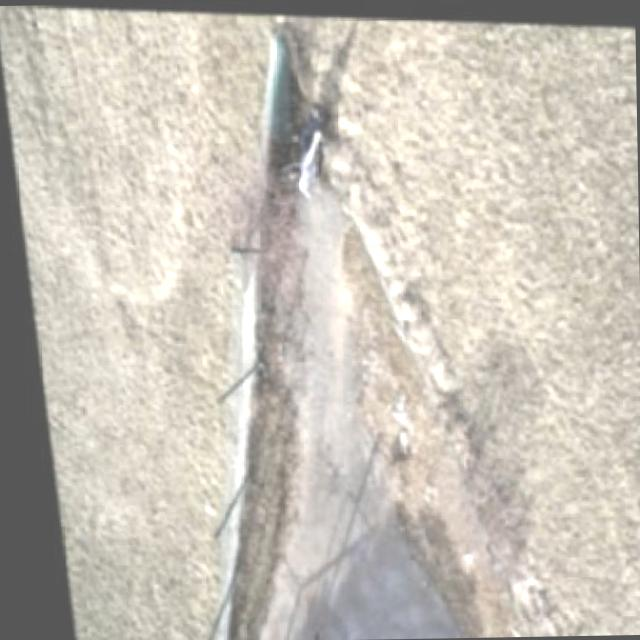Person: (268, 98, 328, 198)
